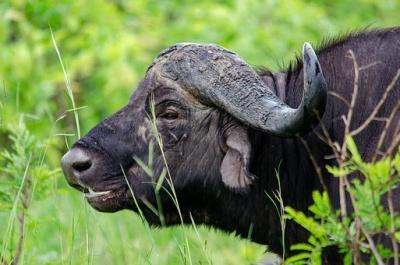buffalo: (60, 43, 336, 259)
